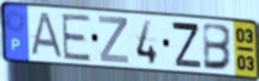4: (134, 18, 159, 66)
A: (28, 11, 66, 60)
B: (202, 21, 235, 72)
E: (60, 12, 93, 62)
Z: (97, 14, 131, 65), (170, 20, 204, 70)
